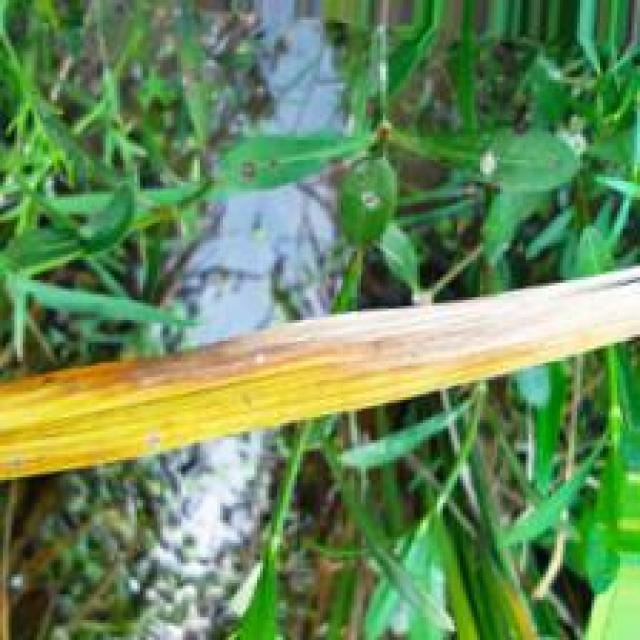Bacterial_Leaf_Blight: (1, 267, 640, 396), (2, 349, 535, 477)
